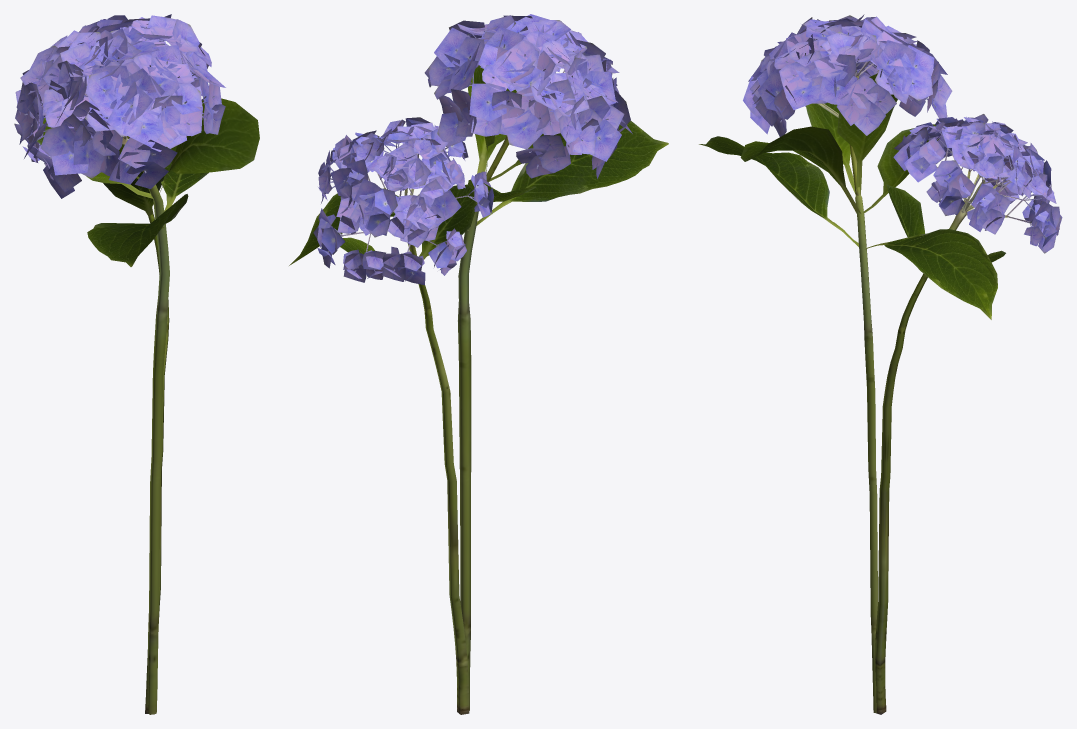
The model's file is Hydrangea_bush_normal_purple.glb.
The picture shows the model from 3 angles, left to right: view 1: azimuth 30°, elevation 25°; view 2: azimuth 150°, elevation 25°; view 3: azimuth 270°, elevation 25°; orthographic projection. The views are drawn at different scales.
Visible parts, largest first — view 1: BUSHEKK; view 2: BUSHEKK; view 3: BUSHEKK.
Boxes of the visible parts, x1,y1,x2,y2 form: BUSHEKK: (14, 14, 259, 714); BUSHEKK: (289, 14, 668, 714); BUSHEKK: (699, 14, 1062, 714).
Bounding box in the file's own units: 1.48 × 3.79 × 1.87.
1 material, 1 textured.
